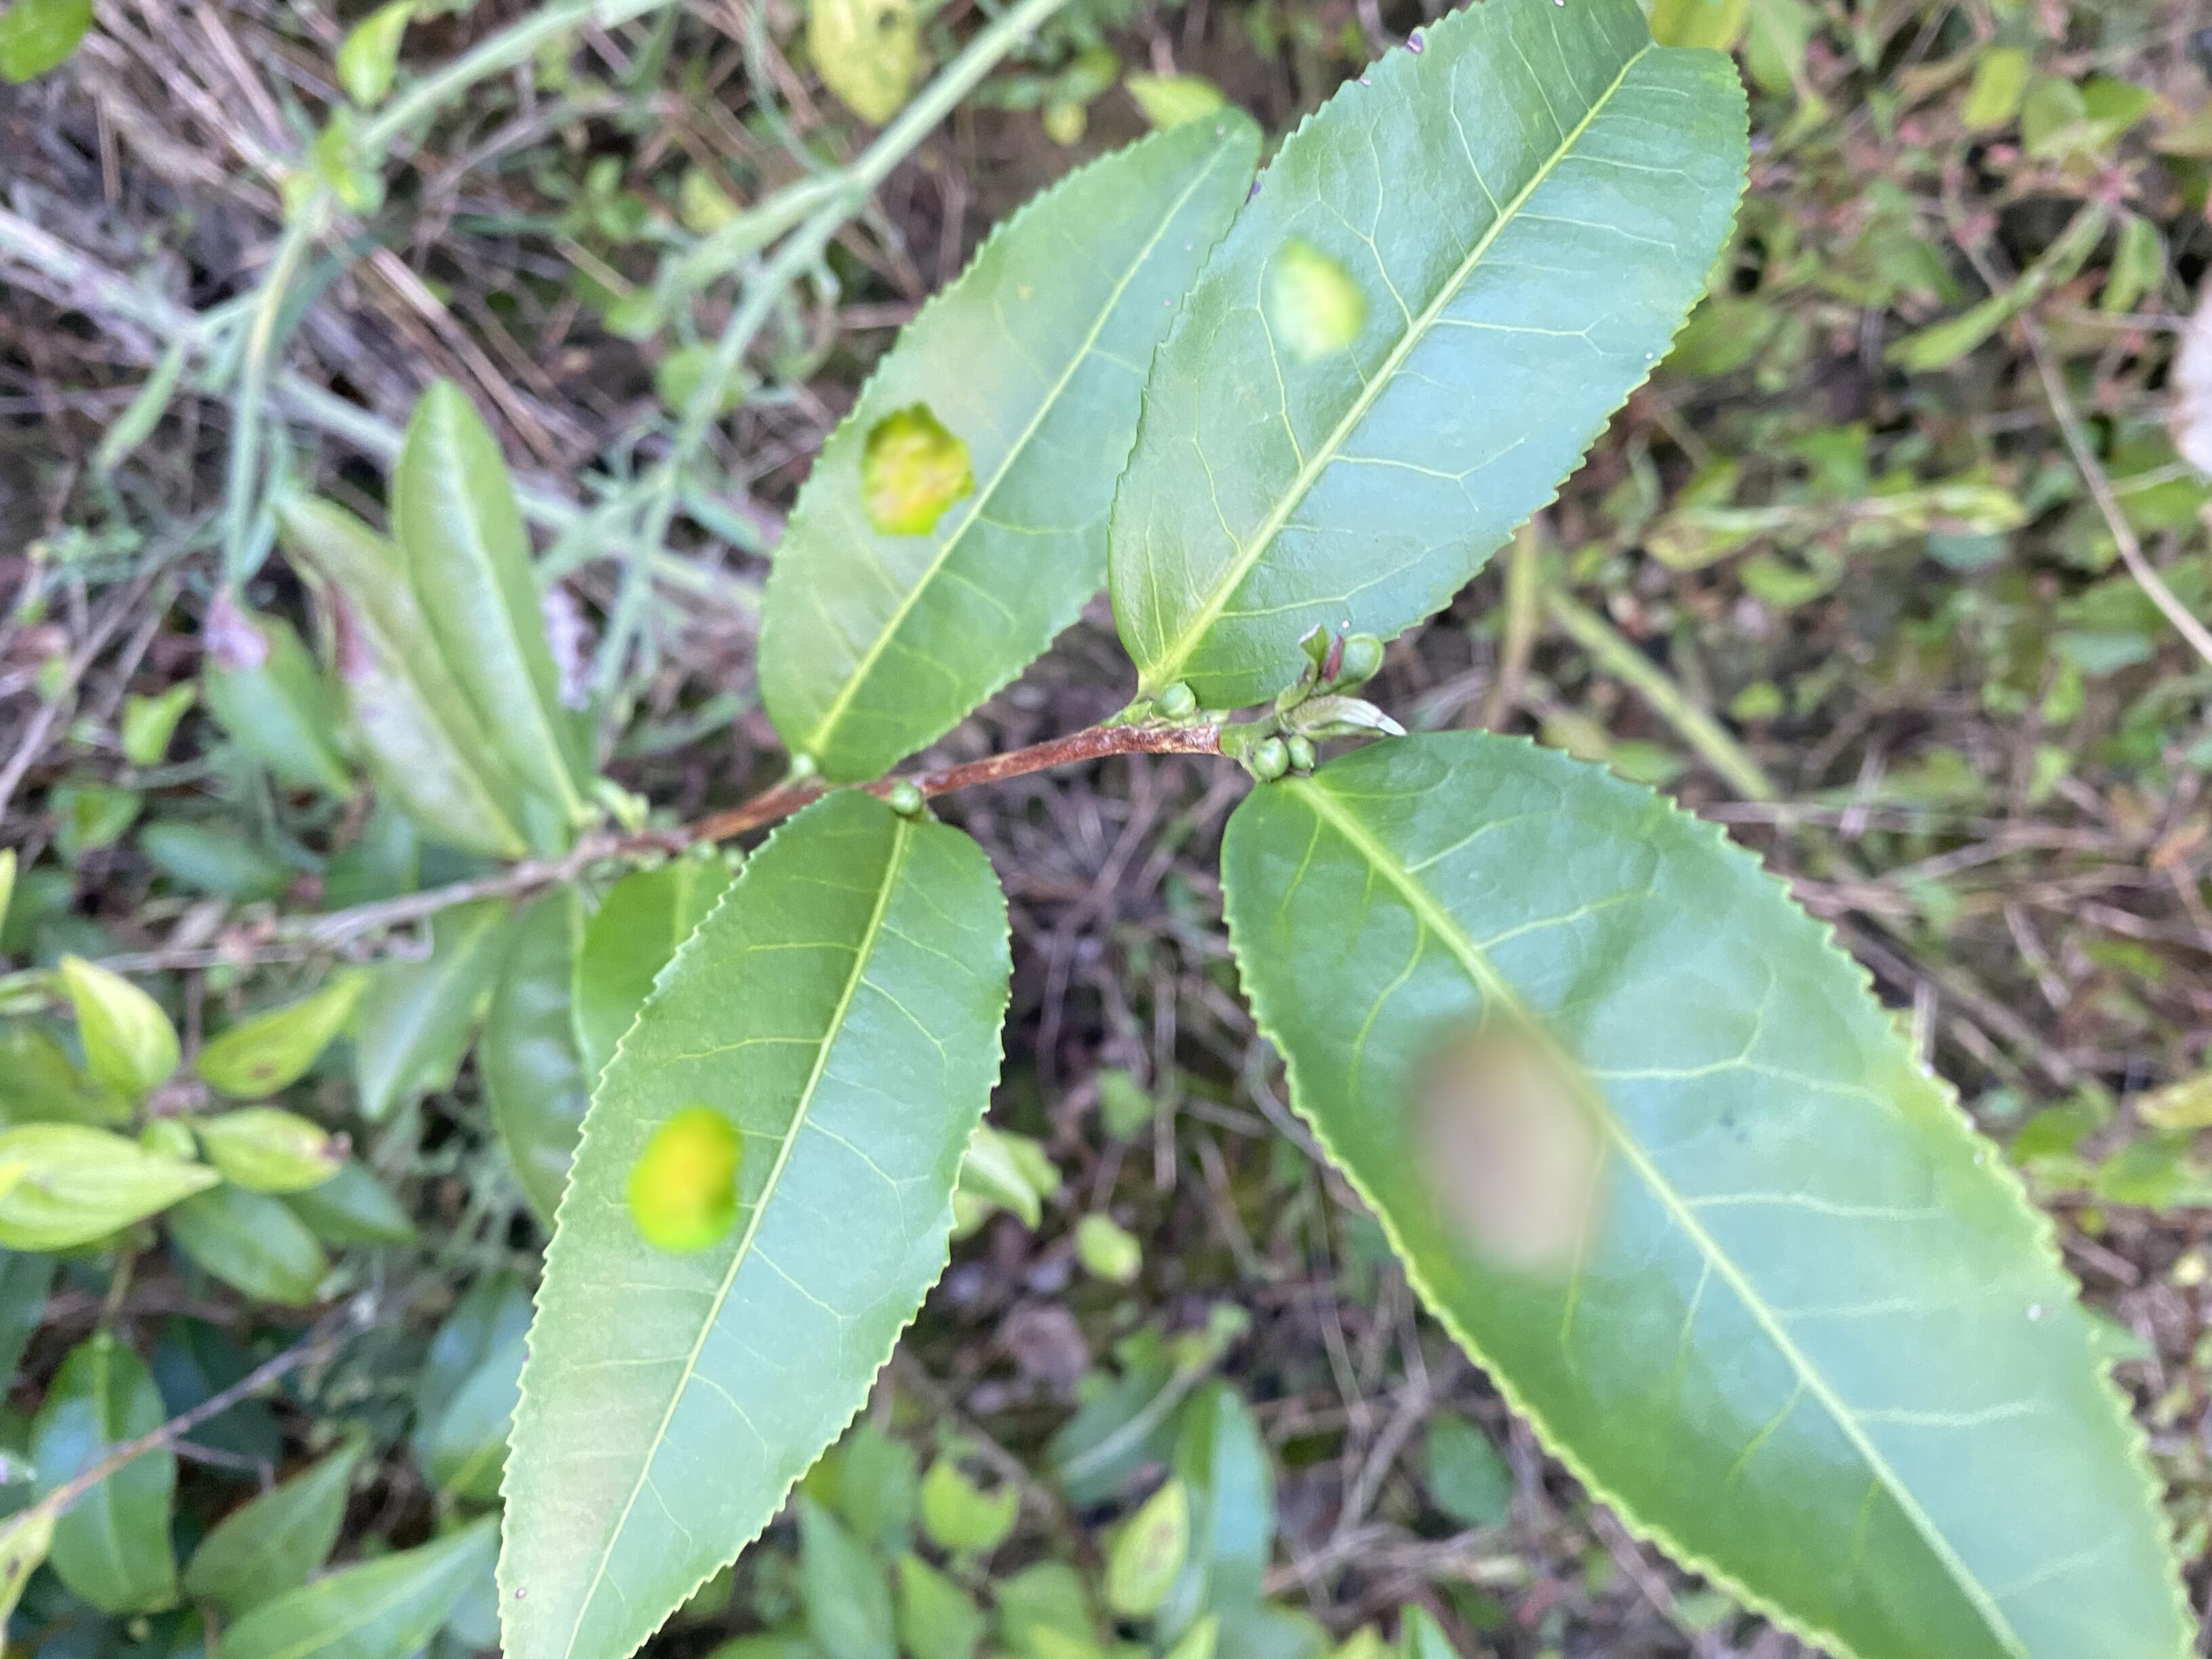chabing_low: (1219, 728, 2195, 1656), (1106, 3, 1756, 714), (495, 786, 1017, 1656), (752, 106, 1261, 791)
